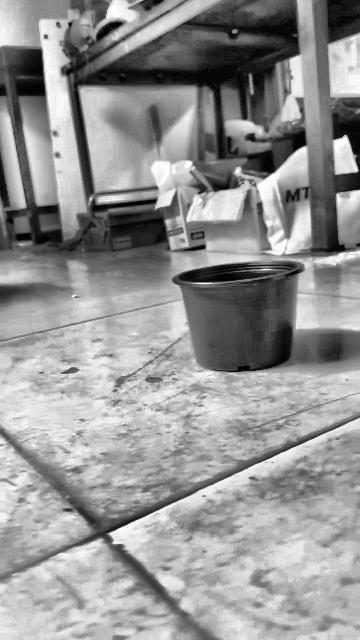pot: (173, 260, 303, 371)
